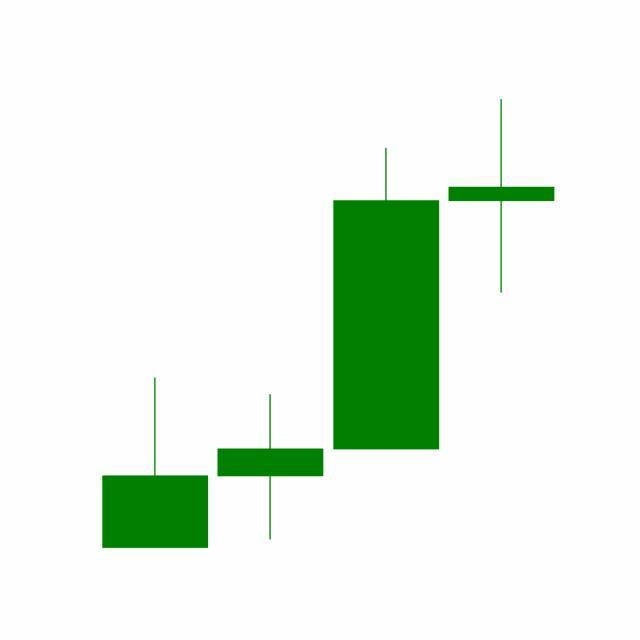Spinning Top: (444, 98, 560, 296)
